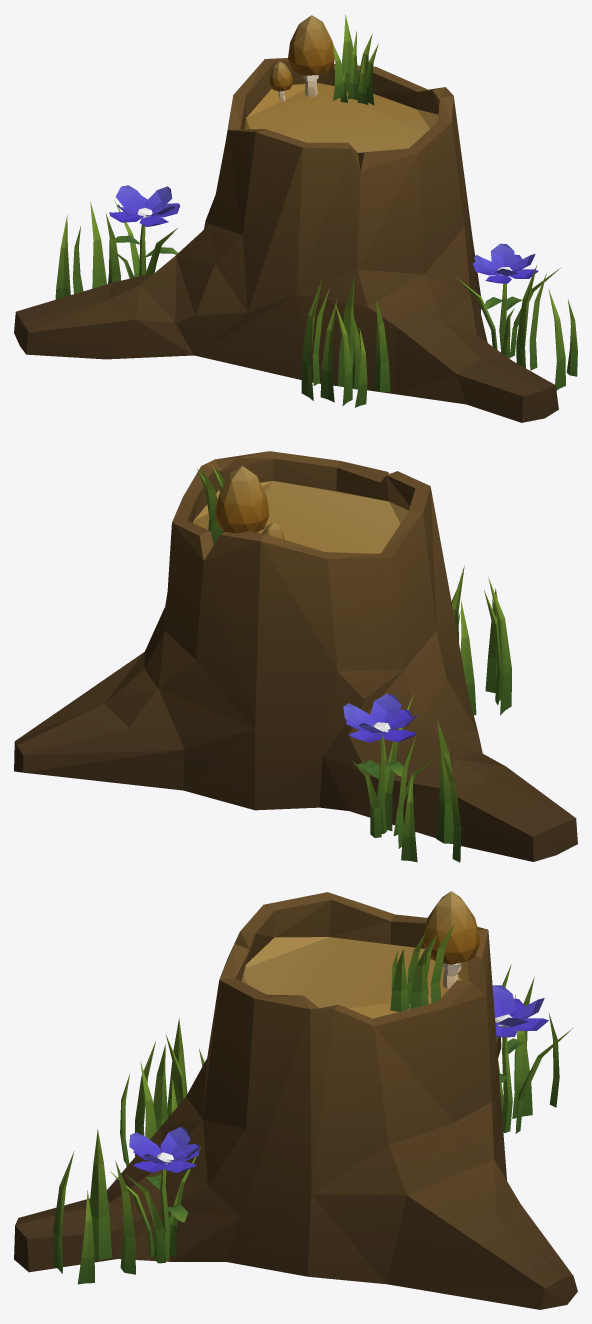
File: Stump_01.obj
The picture shows the model from 3 angles, top to bottom: view 1: azimuth 30°, elevation 25°; view 2: azimuth 150°, elevation 25°; view 3: azimuth 270°, elevation 25°; orthographic projection. The views are drawn at different scales.
Parts seen in each view (by area): view 1: Stump_01; view 2: Stump_01; view 3: Stump_01.
Boxes of the visible parts, bbox=[...] form: Stump_01: bbox=[14, 14, 577, 422]; Stump_01: bbox=[14, 451, 577, 862]; Stump_01: bbox=[14, 891, 577, 1309].
Size of the model in its own units: 1.5 by 0.8956 by 1.35.
1 material, 1 textured.
